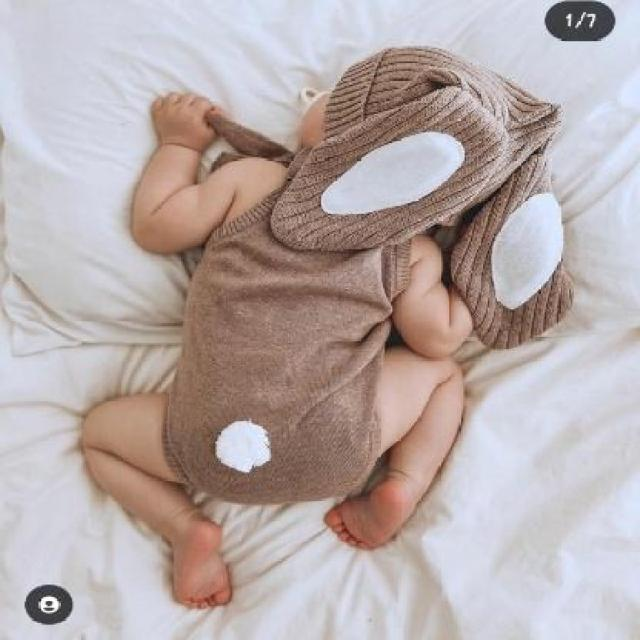baby: (75, 43, 576, 608)
